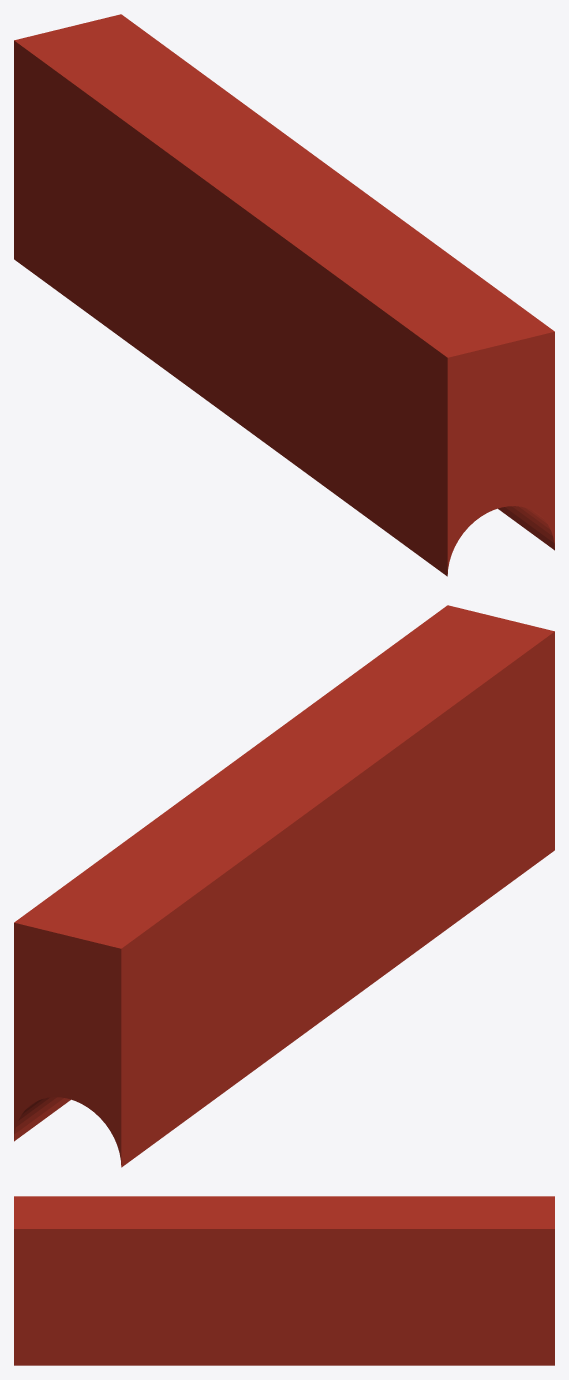
File: SM_04_Arch_Vault_4.fbx
3 views of the same model, one above another, from view 1: azimuth 30°, elevation 25°; view 2: azimuth 150°, elevation 25°; view 3: azimuth 270°, elevation 25° (orthographic). The views are drawn at different scales.
Visible parts, largest first — view 1: Arch_Vault_4; view 2: Arch_Vault_4; view 3: Arch_Vault_4.
Boxes of the visible parts, <box> form: Arch_Vault_4: <box>14,14,554,576</box>; Arch_Vault_4: <box>14,605,554,1167</box>; Arch_Vault_4: <box>14,1196,554,1365</box>.
Bounding box in the file's own units: 400 × 2800 × 780.
